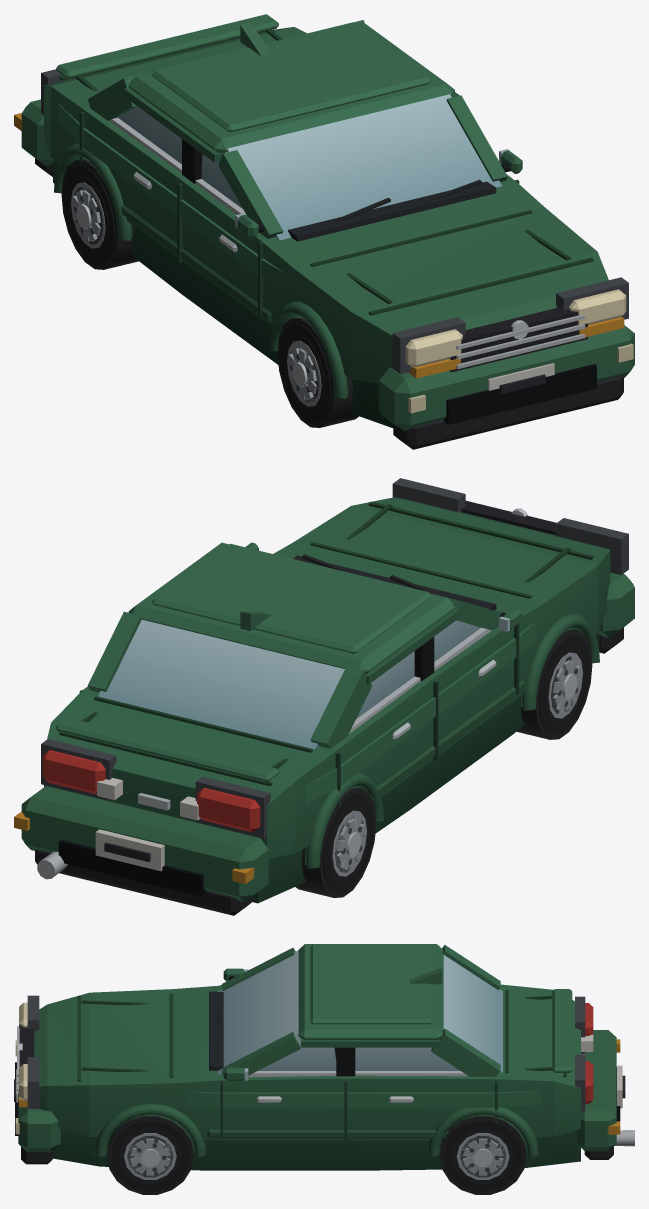
The model's file is car-sedan-01.glb.
The picture shows the model from 3 angles, top to bottom: view 1: azimuth 30°, elevation 25°; view 2: azimuth 150°, elevation 25°; view 3: azimuth 270°, elevation 25°; orthographic projection. The views are drawn at different scales.
Visible parts, largest first — view 1: car_sedan_01; view 2: car_sedan_01; view 3: car_sedan_01.
Part boxes in pixels (x1,y1,x2,y2): car_sedan_01: (14,14,634,449); car_sedan_01: (14,478,634,915); car_sedan_01: (14,944,634,1194).
Size of the model in its own units: 1.2 by 0.9621 by 3.06.
